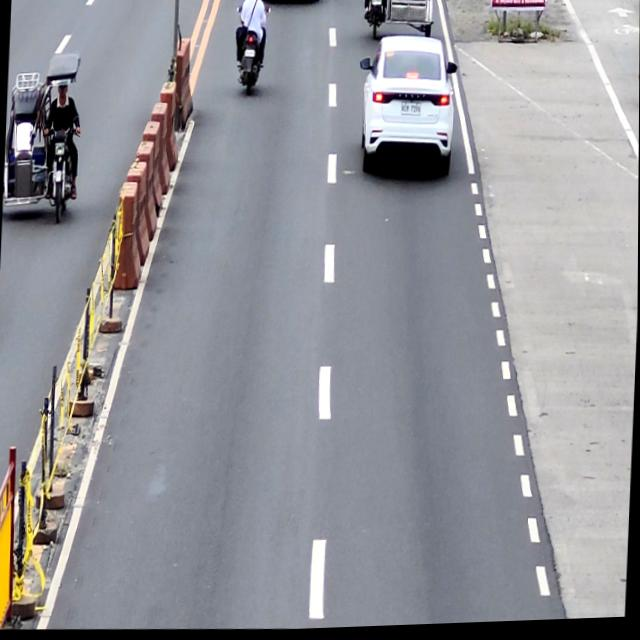Car: (357, 35, 459, 184)
License-Plate: (401, 104, 422, 118), (244, 50, 255, 59), (371, 0, 381, 9)
Motorcycle: (233, 4, 271, 97)
Tricycle: (365, 0, 435, 42)
